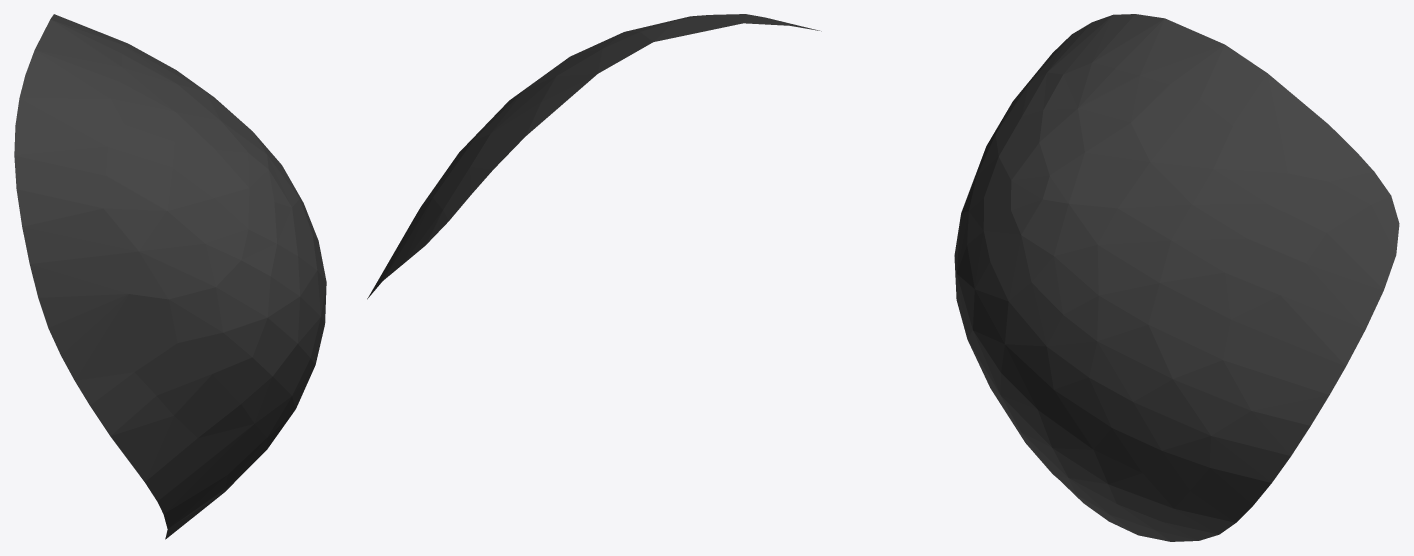
File: Ulna_tuber_olecranon.glb
3 views of the same model, side by side, from view 1: azimuth 30°, elevation 25°; view 2: azimuth 150°, elevation 25°; view 3: azimuth 270°, elevation 25° (orthographic). The views are drawn at different scales.
Visible parts, largest first — view 1: Ulna_tuber_olecranon; view 2: Ulna_tuber_olecranon; view 3: Ulna_tuber_olecranon.
Boxes of the visible parts, x1=… form: Ulna_tuber_olecranon: x1=14, y1=14, x2=326, y2=539; Ulna_tuber_olecranon: x1=367, y1=14, x2=821, y2=299; Ulna_tuber_olecranon: x1=954, y1=14, x2=1399, y2=541.
Size of the model in its own units: 0.0988 by 0.1342 by 0.1163.
1 material, 1 textured.
